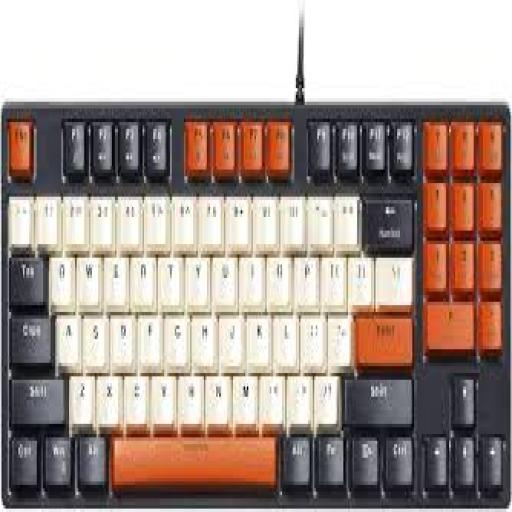keyboard: (0, 105, 510, 509)
